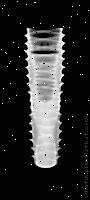Cowellmedi: (27, 28, 65, 169)
